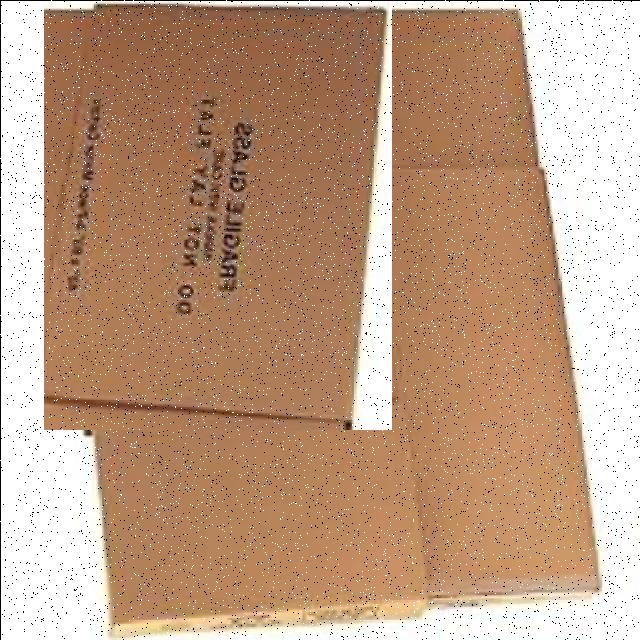normal: (43, 0, 391, 429), (86, 388, 429, 638)
